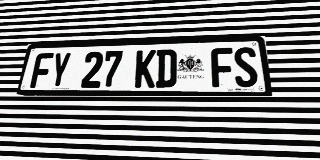2: (81, 51, 104, 88)
7: (100, 51, 123, 88)
D: (155, 49, 177, 88)
F: (211, 48, 235, 87), (30, 53, 54, 88)
K: (134, 50, 156, 88)
S: (233, 47, 259, 87)
Y: (48, 52, 72, 88)
